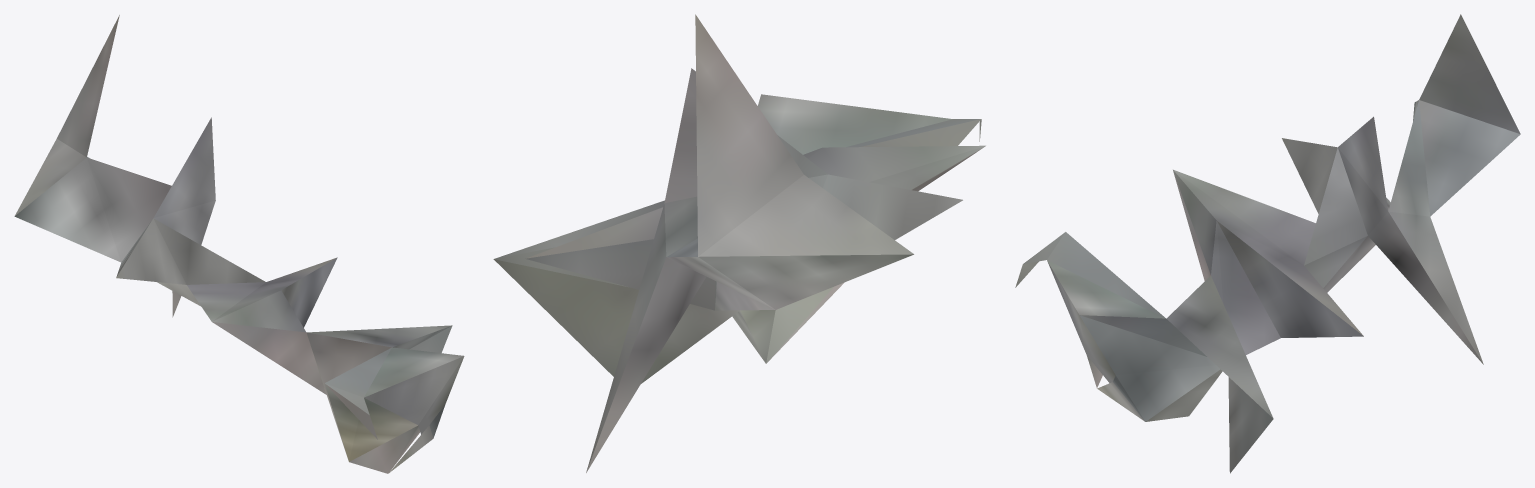
3 renders of one model, left to right at view 1: azimuth 30°, elevation 25°; view 2: azimuth 150°, elevation 25°; view 3: azimuth 270°, elevation 25°, orthographic. The views are drawn at different scales.
Size of the model in its own units: 13.77 by 14.05 by 16.87.
1 material, 1 textured.
